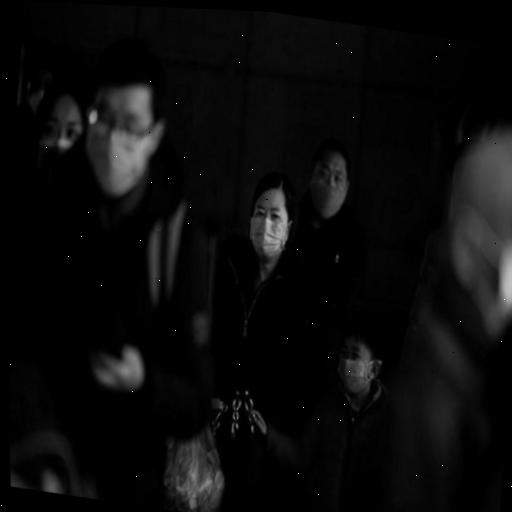mask: (76, 57, 175, 205), (236, 171, 306, 273), (299, 133, 362, 227), (325, 321, 392, 408)
